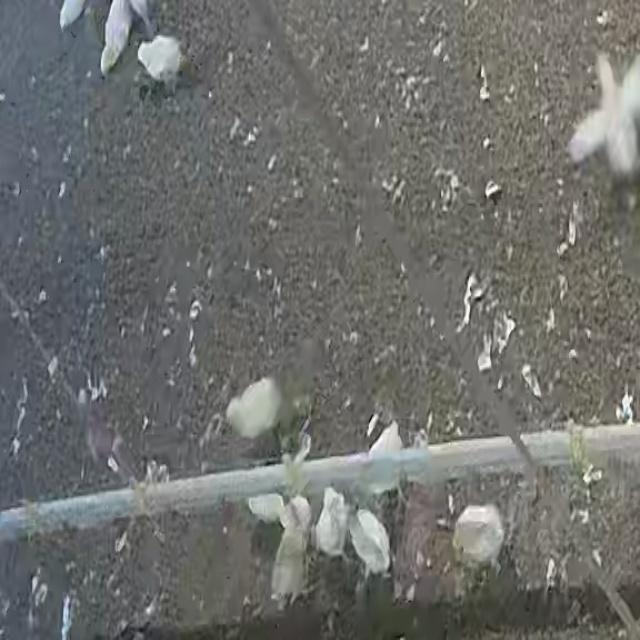chicken: (572, 51, 640, 181), (90, 0, 135, 80), (221, 382, 281, 441), (452, 504, 502, 573), (272, 521, 305, 612), (347, 511, 388, 580), (365, 427, 404, 490), (139, 37, 183, 88), (314, 489, 342, 560), (282, 496, 310, 536), (250, 493, 282, 525)
